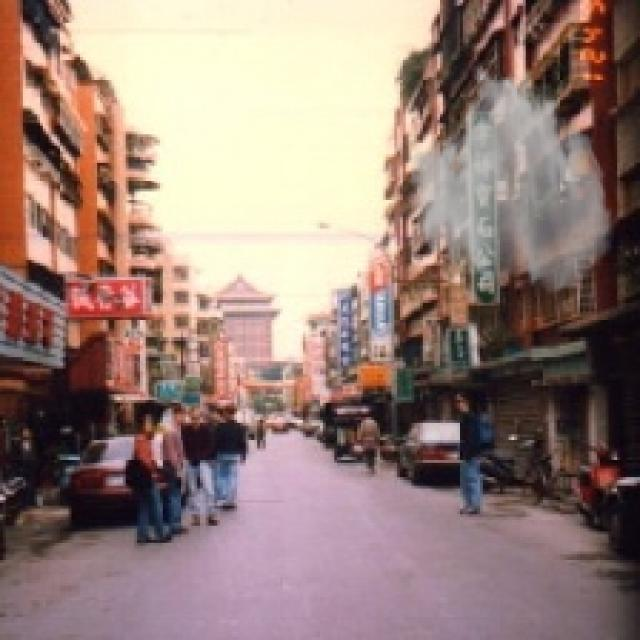Smoke: (406, 60, 614, 297)
